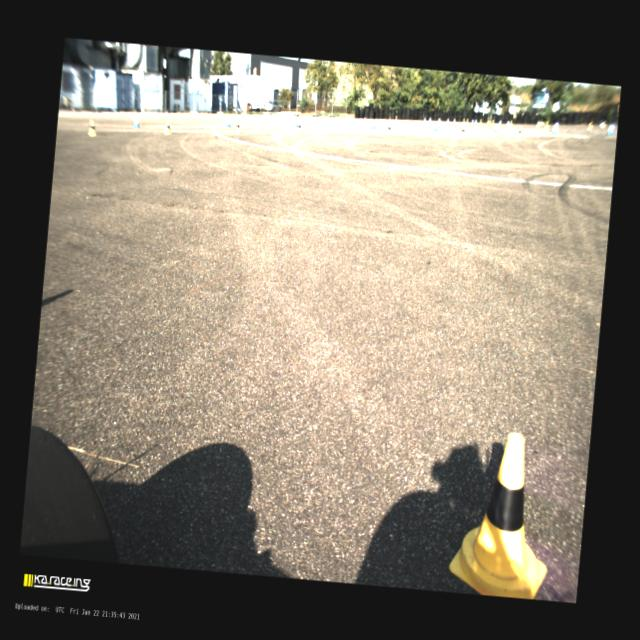yellow_cone: (447, 428, 558, 600), (87, 120, 97, 136), (163, 120, 172, 135)
